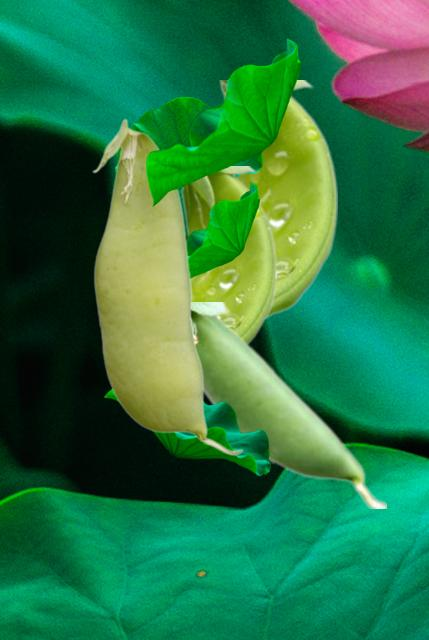pea: (91, 118, 243, 455), (192, 302, 385, 507), (217, 80, 336, 318), (180, 166, 275, 343)
